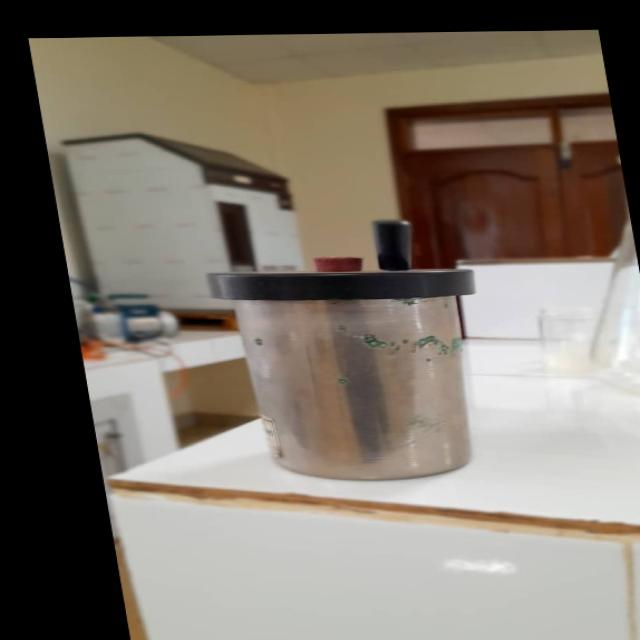Calorimeter: (198, 212, 504, 483)
